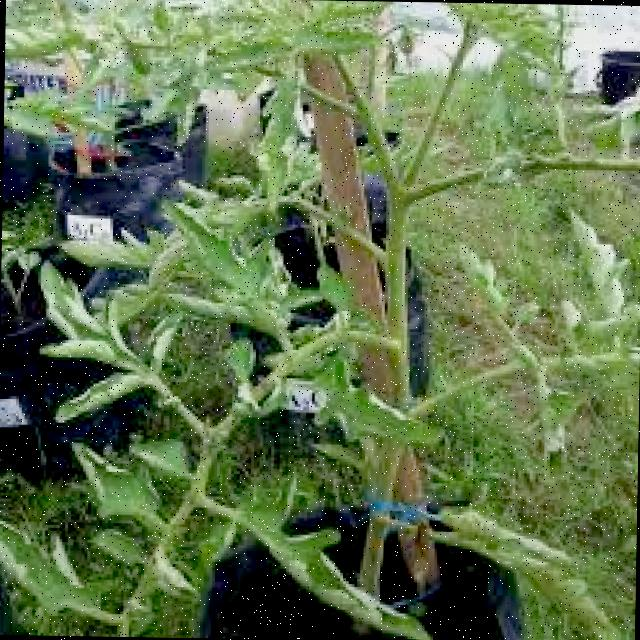leaf curl: (0, 224, 419, 638), (3, 0, 406, 132), (441, 197, 640, 450)
